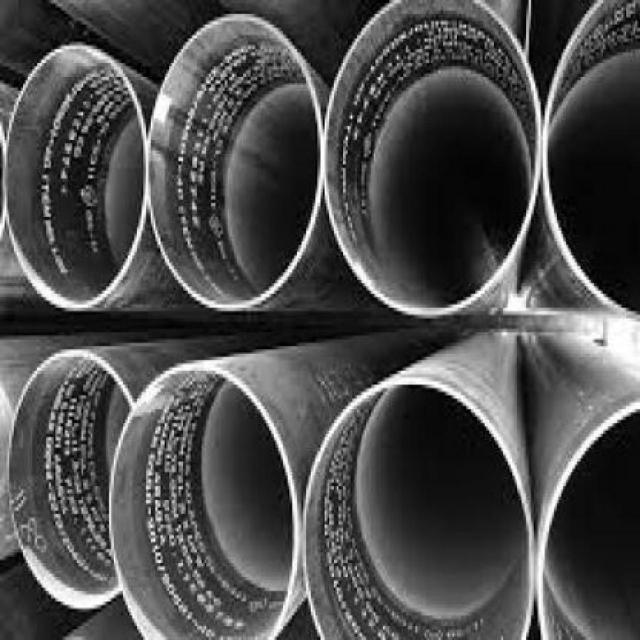pipe: (320, 0, 547, 323), (297, 375, 534, 640), (105, 363, 302, 640), (145, 9, 322, 317), (1, 41, 149, 315), (6, 349, 134, 615), (547, 0, 639, 321), (541, 395, 640, 640)
